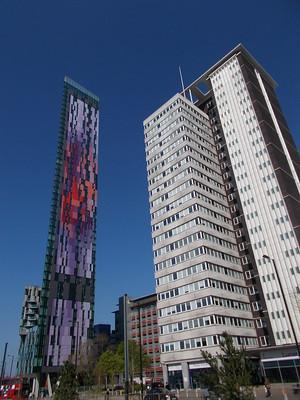building: (138, 40, 300, 400), (20, 71, 96, 382)
